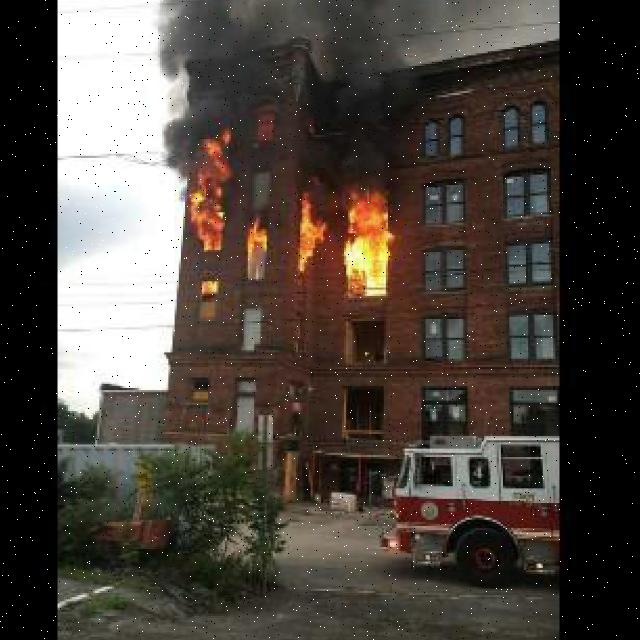fire: (179, 137, 409, 298)
smoke: (135, 0, 469, 164)
